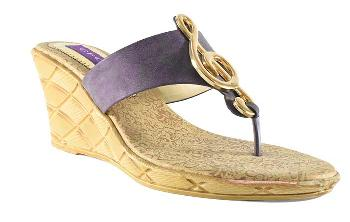Footwear: (30, 12, 344, 205)
